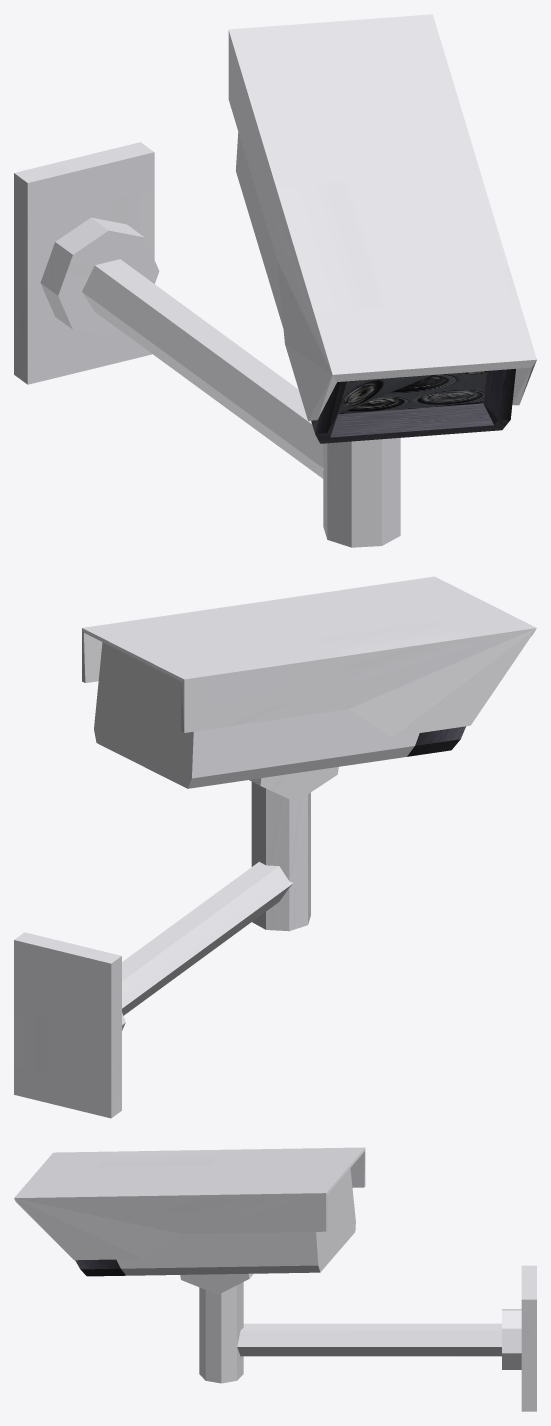
The model's file is 摄像头方.obj.
The picture shows the model from 3 angles, top to bottom: view 1: azimuth 30°, elevation 25°; view 2: azimuth 150°, elevation 25°; view 3: azimuth 270°, elevation 25°; orthographic projection. The views are drawn at different scales.
Visible parts, largest first — view 1: Box003_1, ÊëÑÂÉèÂ§¥Êñπ_1, Cylinder001_1, Box002_1; view 2: Box003_1, ÊëÑÂÉèÂ§¥Êñπ_1, Box002_1, Cylinder001_1, Box001_1; view 3: Box003_1, Box002_1, Cylinder001_1, ÊëÑÂÉèÂ§¥Êñπ_1, Box001_1.
Part boxes in pixels (x1,y1,x2,y2): Box003_1: [228, 14, 536, 420]; ÊëÑÂÉèÂ§¥Êñπ_1: [14, 142, 400, 547]; Cylinder001_1: [82, 259, 324, 478]; Box002_1: [235, 132, 515, 443]; Box003_1: [82, 576, 536, 736]; ÊëÑÂÉèÂ§¥Êñπ_1: [14, 782, 310, 1118]; Box002_1: [94, 642, 465, 788]; Cylinder001_1: [122, 861, 293, 1015]; Box001_1: [249, 767, 338, 801]; Box003_1: [14, 1147, 365, 1260]; Box002_1: [75, 1168, 355, 1276]; Cylinder001_1: [237, 1323, 501, 1356]; ÊëÑÂÉèÂ§¥Êñπ_1: [199, 1265, 536, 1411]; Box001_1: [180, 1273, 253, 1294].
Size of the model in its own units: 31.86 by 39.01 by 75.19.
